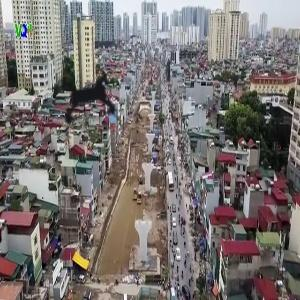drone: (23, 35, 157, 169)
